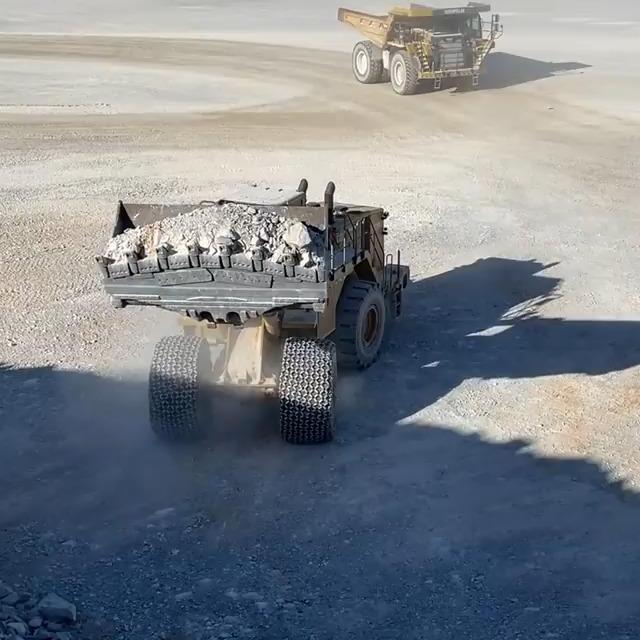dump truck: (331, 0, 507, 102)
wheel loader: (91, 179, 414, 456)
